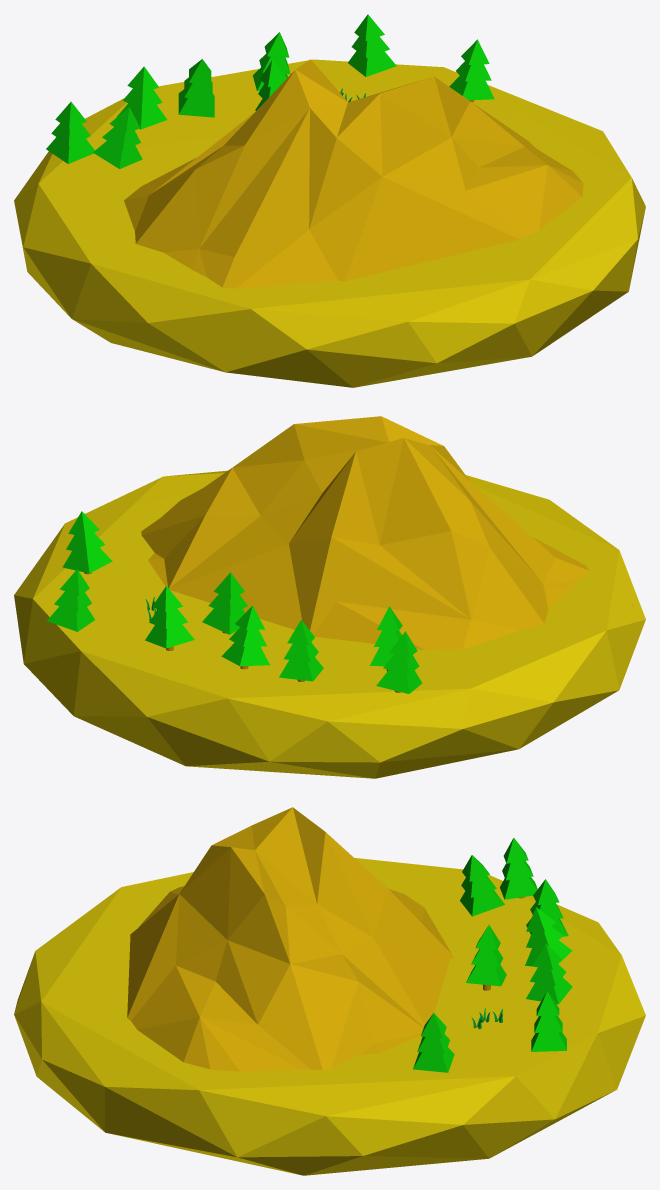
The model's file is island_3.glb.
The picture shows the model from 3 angles, top to bottom: view 1: azimuth 30°, elevation 25°; view 2: azimuth 150°, elevation 25°; view 3: azimuth 270°, elevation 25°; orthographic projection.
Parts seen in each view (by area): view 1: Cylinder_2_9, Landscape_2, Pyramid_2_3, Pyramid_7, Pyramid_5, Pyramid_3, Pyramid_8, Pyramid, Pyramid_1; view 2: Cylinder_2_9, Landscape_2, Pyramid_8, Pyramid_4, Pyramid_3, Pyramid_5, Pyramid_7, Pyramid, Pyramid_6, Pyramid_1_8, Pyramid_1_4, Pyramid_1_6 (+1 smaller); view 3: Cylinder_2_9, Landscape_2, Pyramid_2_3, Pyramid_8, Pyramid_6, Pyramid_5, Pyramid_4, Pyramid_7.
Boxes of the visible parts, x1,y1,x2,y2 form: Cylinder_2_9: (14, 59, 645, 387); Landscape_2: (124, 59, 583, 308); Pyramid_2_3: (93, 141, 142, 169); Pyramid_7: (46, 137, 94, 163); Pyramid_5: (348, 51, 396, 76); Pyramid_3: (178, 89, 214, 117); Pyramid_8: (449, 76, 494, 100); Pyramid: (116, 103, 167, 129); Pyramid_1: (123, 88, 162, 110); Cylinder_2_9: (14, 470, 645, 778); Landscape_2: (141, 416, 633, 649); Pyramid_8: (62, 548, 112, 573); Pyramid_4: (145, 624, 194, 648); Pyramid_3: (221, 642, 269, 666); Pyramid_5: (47, 606, 94, 631); Pyramid_7: (376, 670, 422, 693); Pyramid: (279, 657, 323, 681); Pyramid_6: (202, 608, 245, 634); Pyramid_1_8: (66, 533, 105, 554); Pyramid_1_4: (149, 608, 187, 628); Pyramid_1_6: (208, 594, 247, 615); Cylinder_2_9: (14, 858, 645, 1175); Landscape_2: (127, 807, 453, 1071); Pyramid_2_3: (460, 890, 504, 916); Pyramid_8: (413, 1047, 454, 1072); Pyramid_6: (466, 964, 506, 986); Pyramid_5: (531, 1032, 566, 1051); Pyramid_4: (526, 977, 572, 1004); Pyramid_7: (500, 877, 537, 899).
Bounding box in the file's own units: 4.41 × 1.68 × 4.41.
